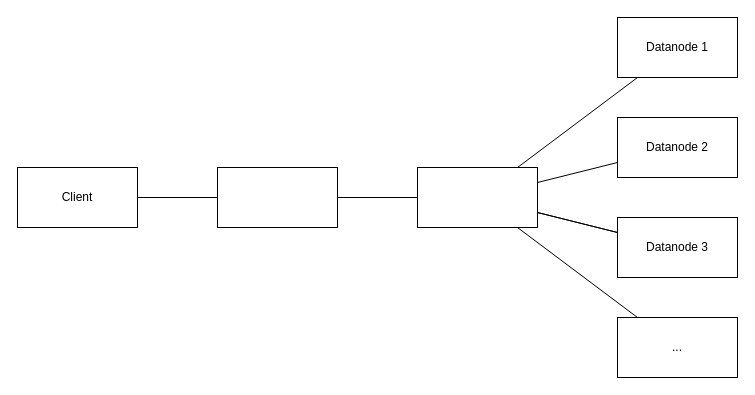
This 755x395 diagram has some shape labels left out. Each missing label, with the centre of its shape:
Application: (277,197)
Database: (477,197)
